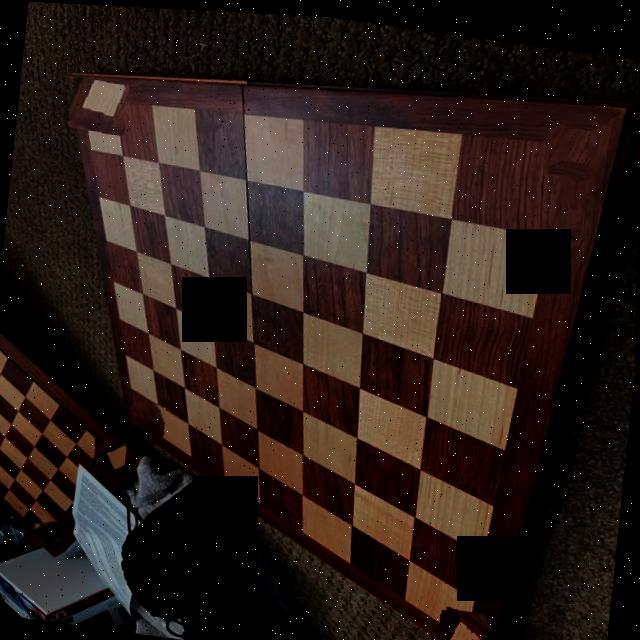chess-table-corners: (67, 74, 129, 134), (541, 118, 595, 175), (436, 602, 489, 640), (116, 400, 166, 440), (91, 437, 128, 472), (26, 518, 61, 548)
